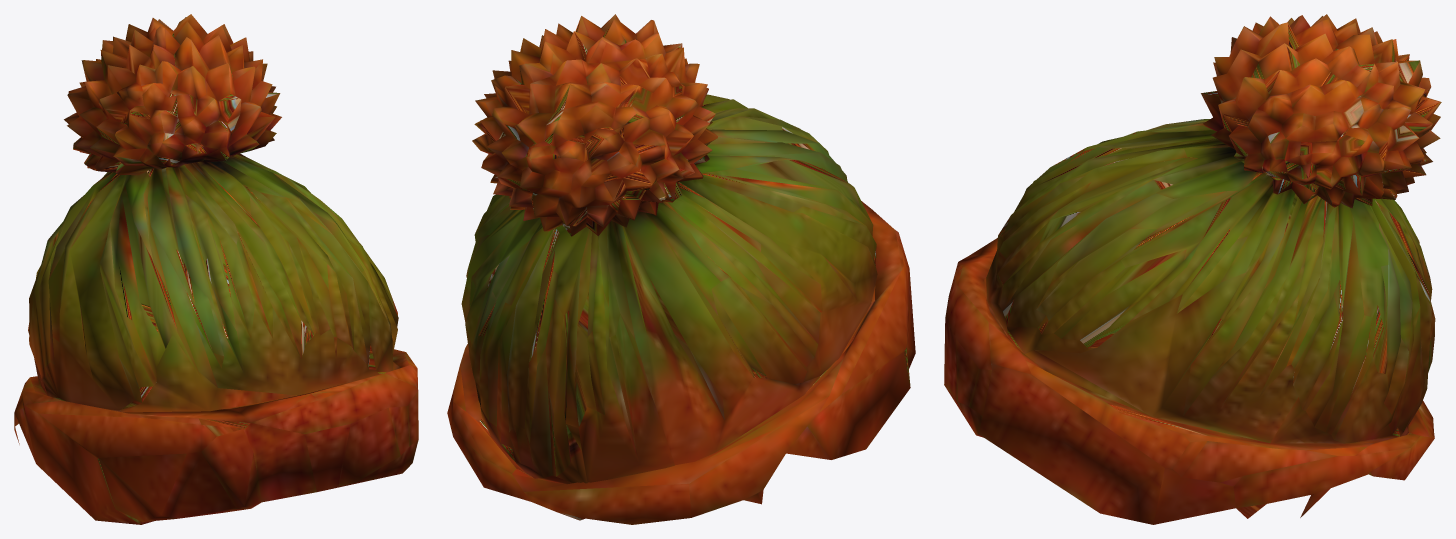
3 views of the same model, side by side, from view 1: azimuth 30°, elevation 25°; view 2: azimuth 150°, elevation 25°; view 3: azimuth 270°, elevation 25° (orthographic). The views are drawn at different scales.
Visible parts, largest first — view 1: material; view 2: material; view 3: material.
Boxes of the visible parts, box(x1,y1,x2,y2) form: material: box(14, 14, 418, 524); material: box(447, 14, 915, 524); material: box(944, 14, 1441, 524).
Bounding box in the file's own units: 0.4957 × 0.566 × 0.5986.
Materials: 1 (1 with a texture image).
